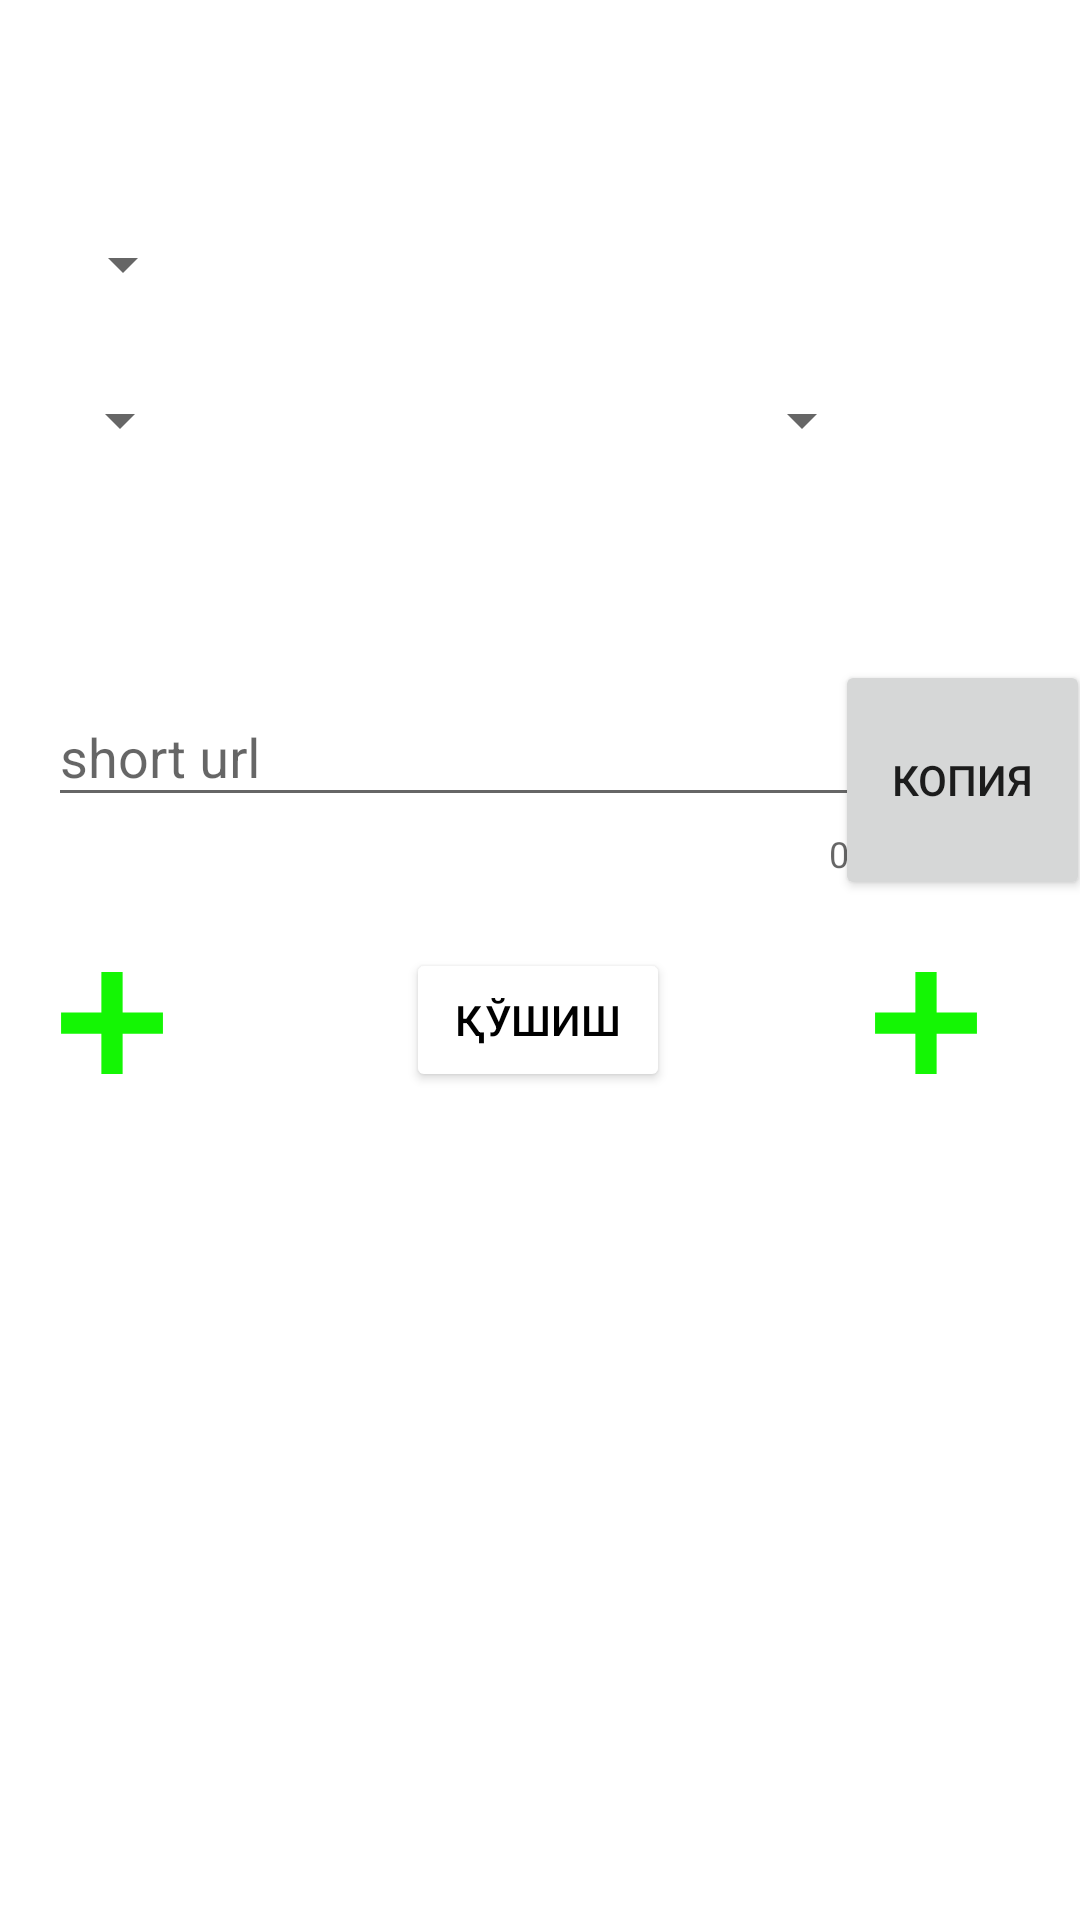

Icon bounding boxes for this 1080 × 1920 phone screenshot, format (x1, y1, x2, y2):
add: (61, 972, 163, 1074), (875, 972, 977, 1074)
